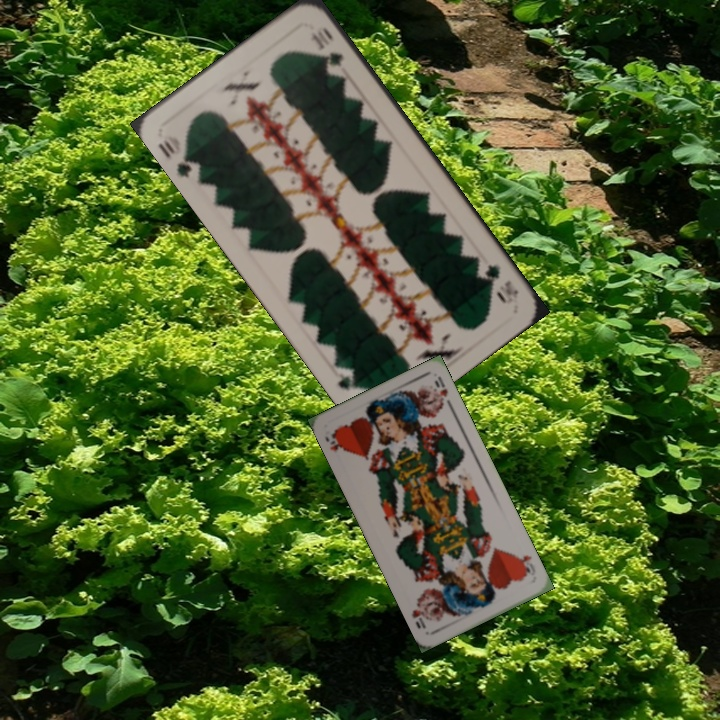G10: (154, 136, 204, 181), (481, 260, 521, 304)
HO: (321, 426, 347, 454), (512, 551, 534, 578)
